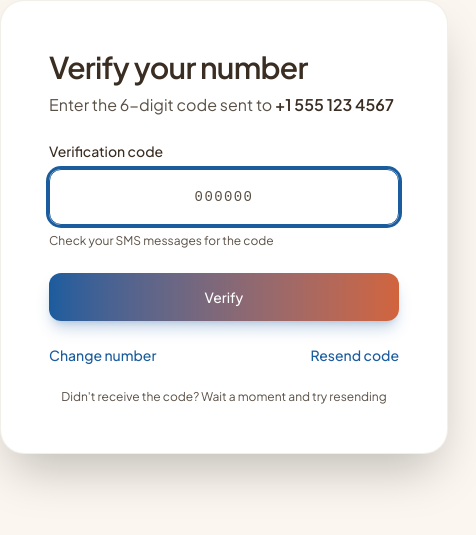
it: VerifyPage › shows success message after resending code
Click the button "Resend code" at (355, 355), box 310,345 -> 399,365
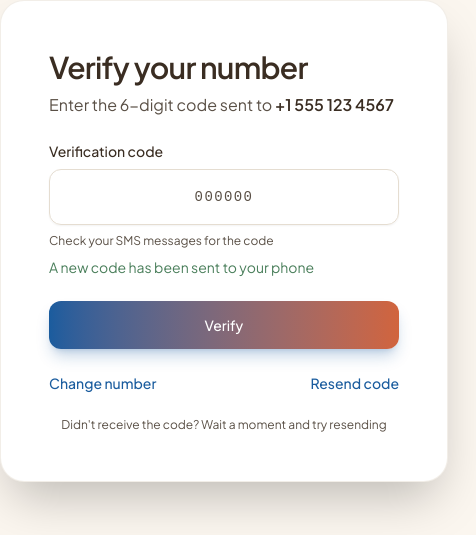
Check: the text "A new code has been sent to your phone" is shown, box 49,258 -> 314,276
